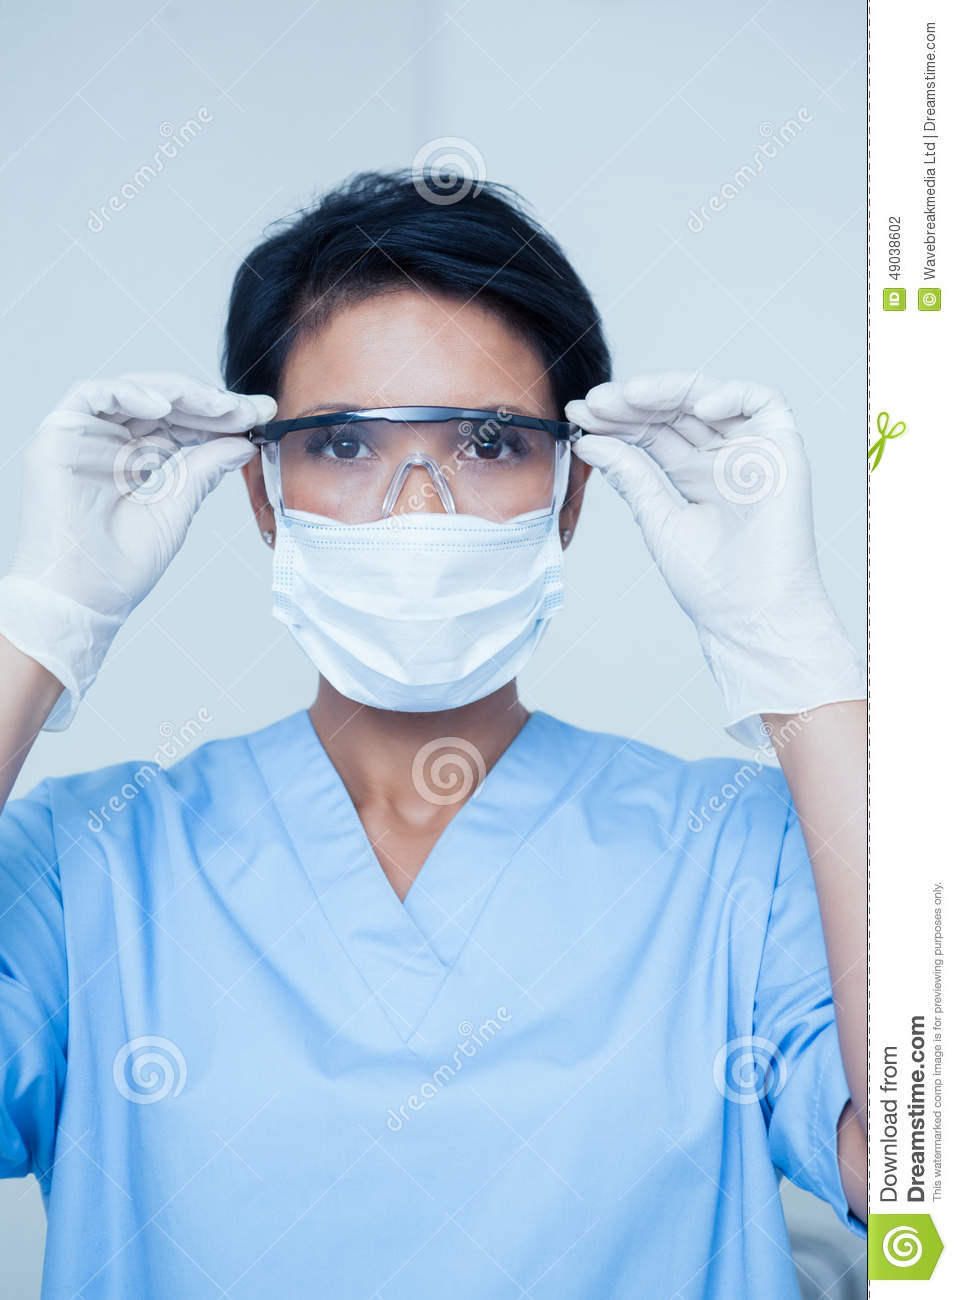mask: (258, 501, 598, 743)
